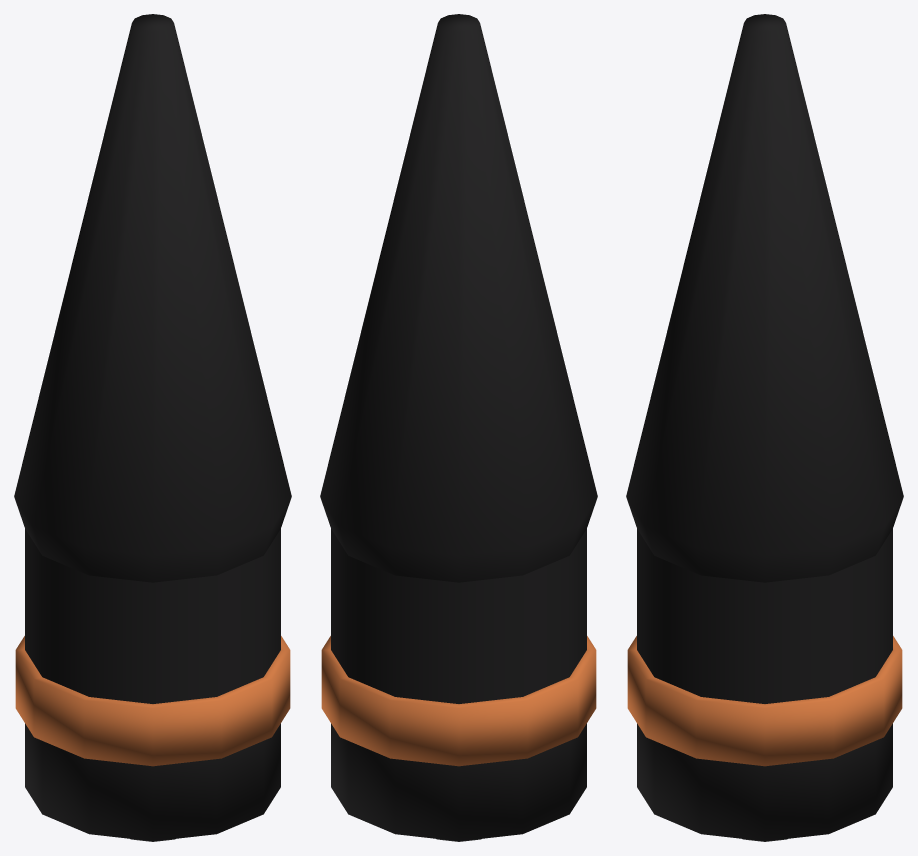
Rendered from apcr.glb.
3 renders of one model, left to right at view 1: azimuth 30°, elevation 25°; view 2: azimuth 150°, elevation 25°; view 3: azimuth 270°, elevation 25°, orthographic.
Parts seen in each view (by area): view 1: shell; view 2: shell; view 3: shell.
Part boxes in pixels (bbox=[...]): shell: bbox=[14, 14, 291, 841]; shell: bbox=[320, 14, 597, 841]; shell: bbox=[626, 14, 903, 841].
Bounding box in the file's own units: 0.0788 × 0.2505 × 0.0788.
